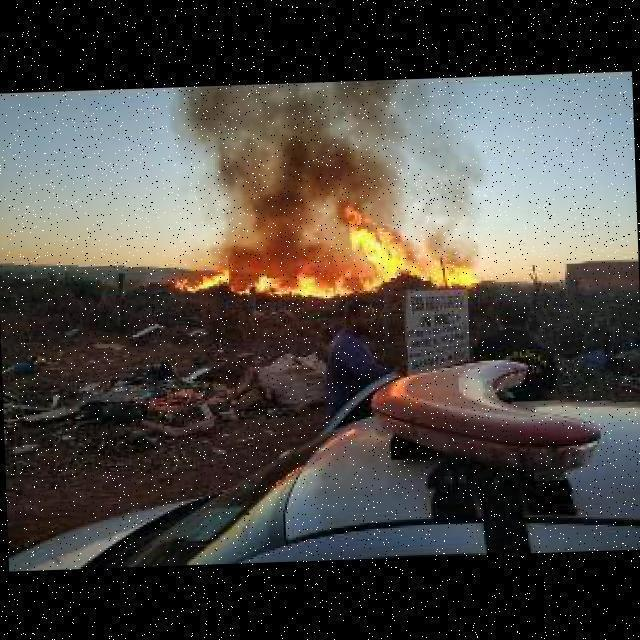Fire: (342, 208, 482, 296), (170, 263, 350, 301)
Smoke: (164, 75, 404, 267)
